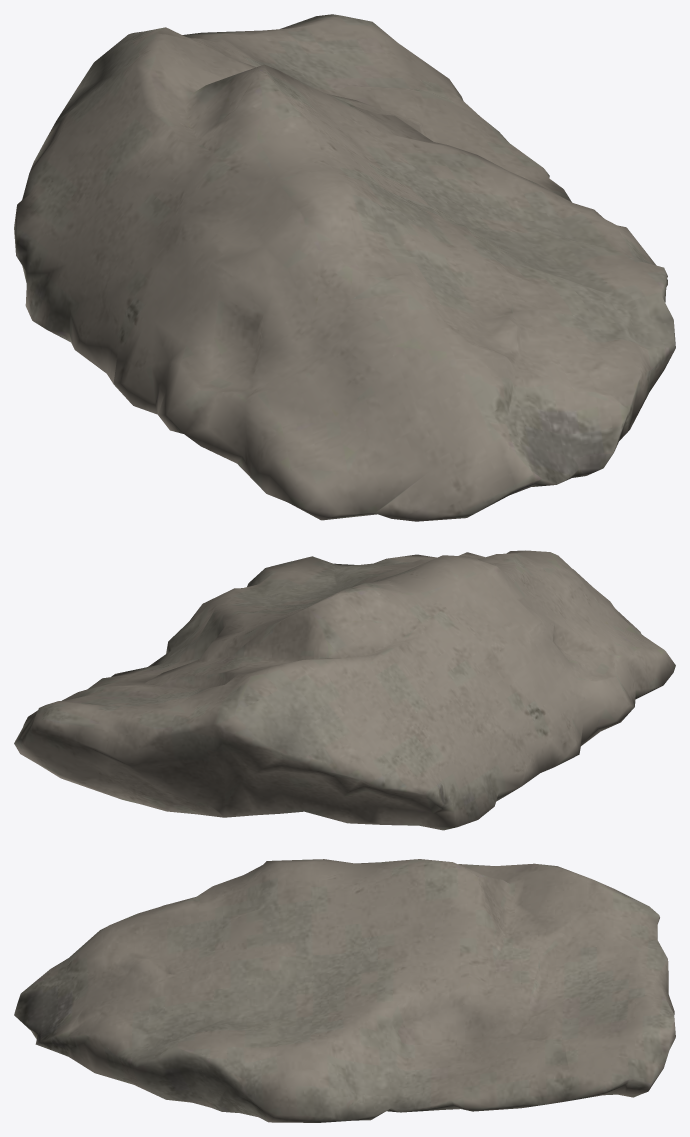
Rendered from rock_moon_rock_04.df93454e4f.glb.
3 views of the same model, one above another, from view 1: azimuth 30°, elevation 25°; view 2: azimuth 150°, elevation 25°; view 3: azimuth 270°, elevation 25° (orthographic). The views are drawn at different scales.
Parts seen in each view (by area): view 1: moon_rock_04; view 2: moon_rock_04; view 3: moon_rock_04.
Boxes of the visible parts, left/top/right/bottom form: moon_rock_04: left=14, top=14, right=675, bottom=521; moon_rock_04: left=14, top=550, right=675, bottom=830; moon_rock_04: left=14, top=859, right=675, bottom=1122.
Size of the model in its own units: 0.6877 by 0.3084 by 0.9948.
Materials: 1 (1 with a texture image).
